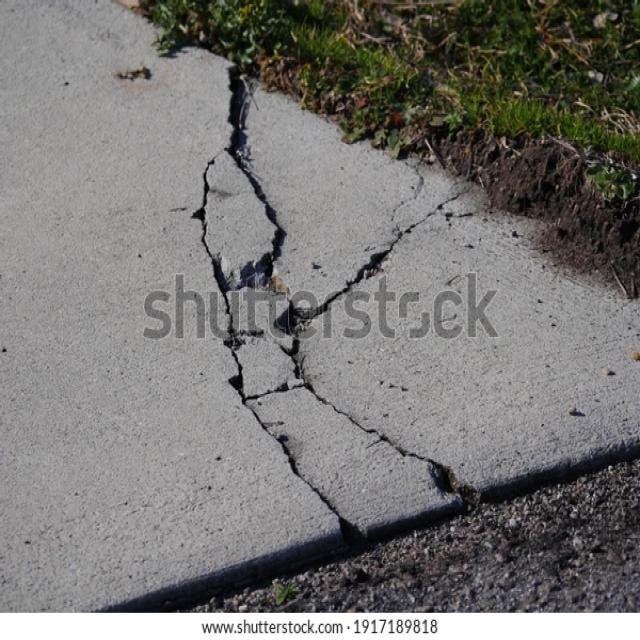Pothole: (128, 0, 640, 382)
